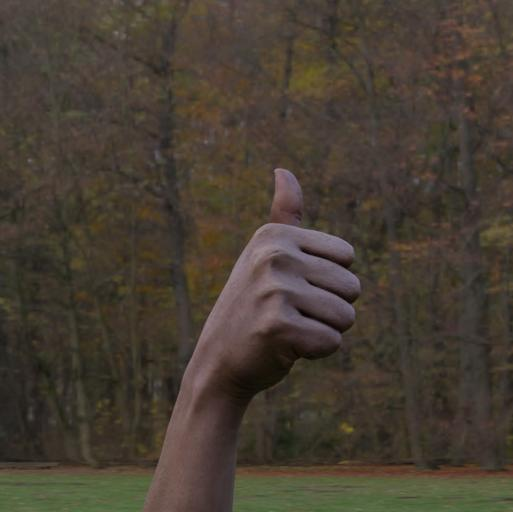thumbs-up: (198, 164, 370, 393)
